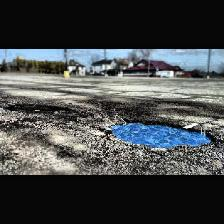pothole: (108, 119, 214, 147), (7, 103, 71, 113)
